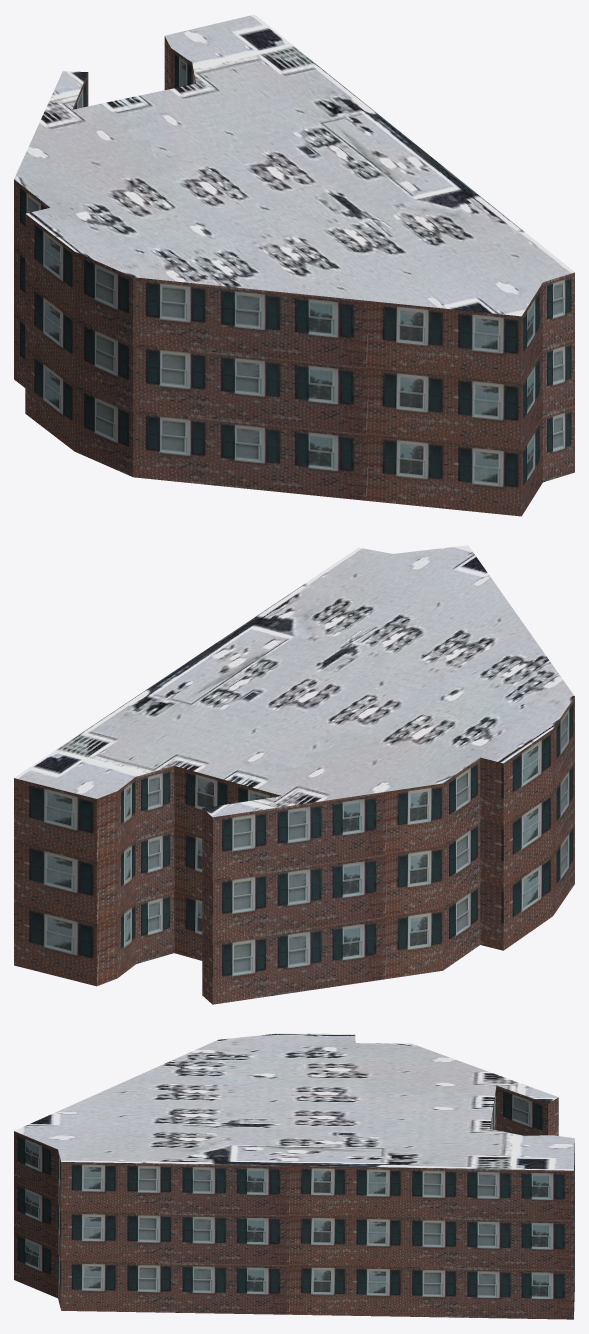
Rendered from ResTex__4745.fbx.
3 renders of one model, top to bottom at view 1: azimuth 30°, elevation 25°; view 2: azimuth 150°, elevation 25°; view 3: azimuth 270°, elevation 25°, orthographic. The views are drawn at different scales.
Parts seen in each view (by area): view 1: CityEngineMaterial_14_m, CityEngineMaterial_2_m; view 2: CityEngineMaterial_14_m, CityEngineMaterial_2_m; view 3: CityEngineMaterial_14_m, CityEngineMaterial_2_m.
Part boxes in pixels (x1,y1,x2,y2): CityEngineMaterial_14_m: (14, 36, 574, 516); CityEngineMaterial_2_m: (14, 14, 574, 316); CityEngineMaterial_14_m: (14, 697, 574, 1004); CityEngineMaterial_2_m: (14, 545, 574, 817); CityEngineMaterial_14_m: (14, 1041, 574, 1319); CityEngineMaterial_2_m: (14, 1033, 574, 1170).
Size of the model in its own units: 17.79 by 9 by 30.72.
Materials: 2 (2 with a texture image).
